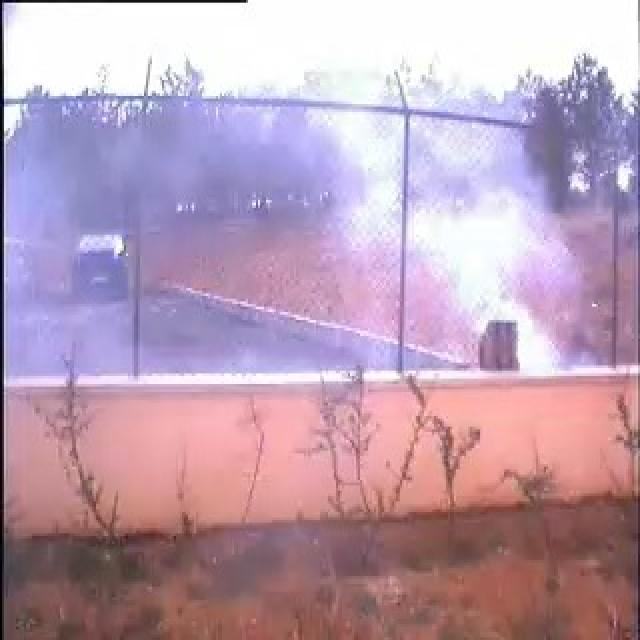Smoke: (265, 96, 583, 372)
